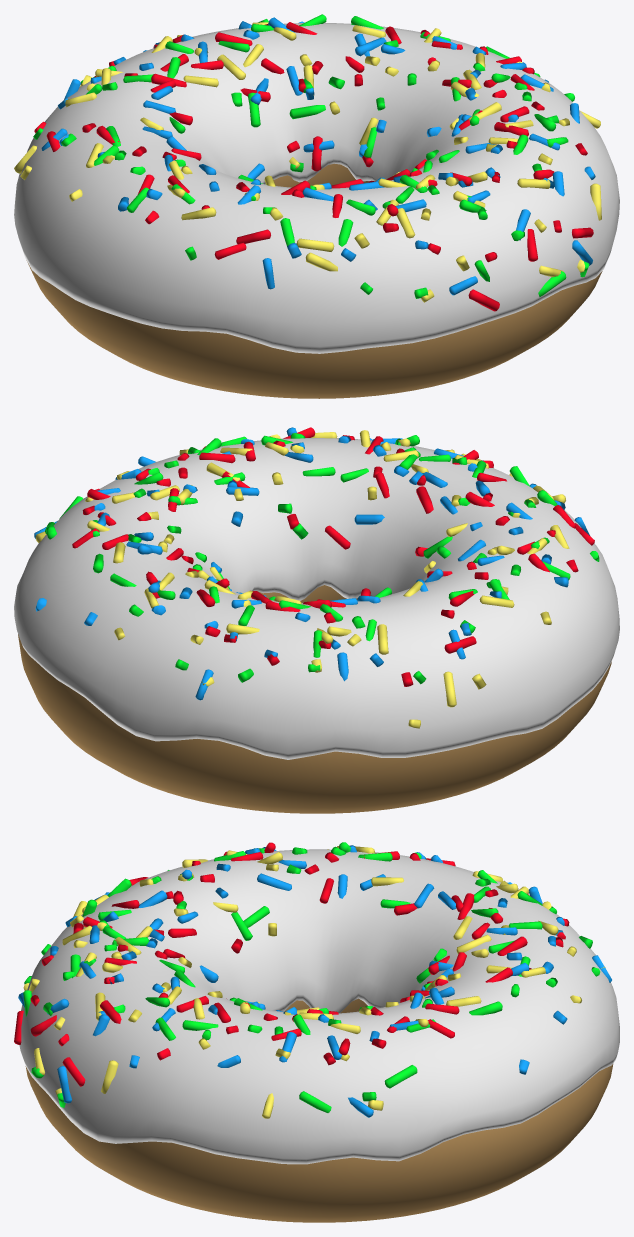
The model's file is donutShiny.fbx.
3 views of the same model, one above another, from view 1: azimuth 30°, elevation 25°; view 2: azimuth 150°, elevation 25°; view 3: azimuth 270°, elevation 25° (orthographic).
Parts seen in each view (by area): view 1: Torus.002, Torus.003; view 2: Torus.002, Torus.003; view 3: Torus.002, Torus.003.
Part boxes in pixels (bbox=[...]): Torus.002: bbox=[14, 23, 619, 353]; Torus.003: bbox=[26, 163, 602, 398]; Torus.002: bbox=[14, 437, 619, 759]; Torus.003: bbox=[18, 585, 611, 813]; Torus.002: bbox=[19, 849, 619, 1164]; Torus.003: bbox=[25, 998, 613, 1222].
Size of the model in its own units: 307 by 113 by 310.
